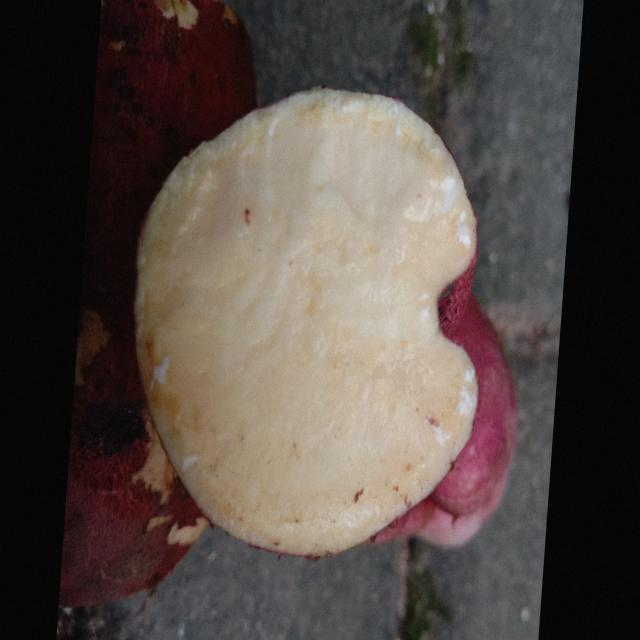Healthy Sweet Potato: (135, 88, 478, 557)
